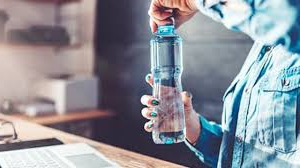plastic water bottle: (143, 12, 191, 148)
